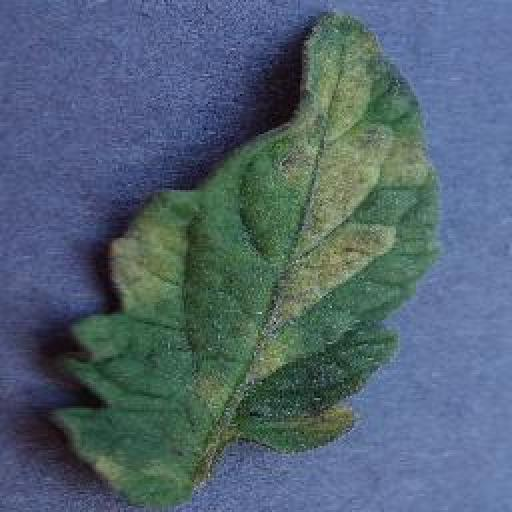Leaf Mold: (48, 9, 443, 512)
